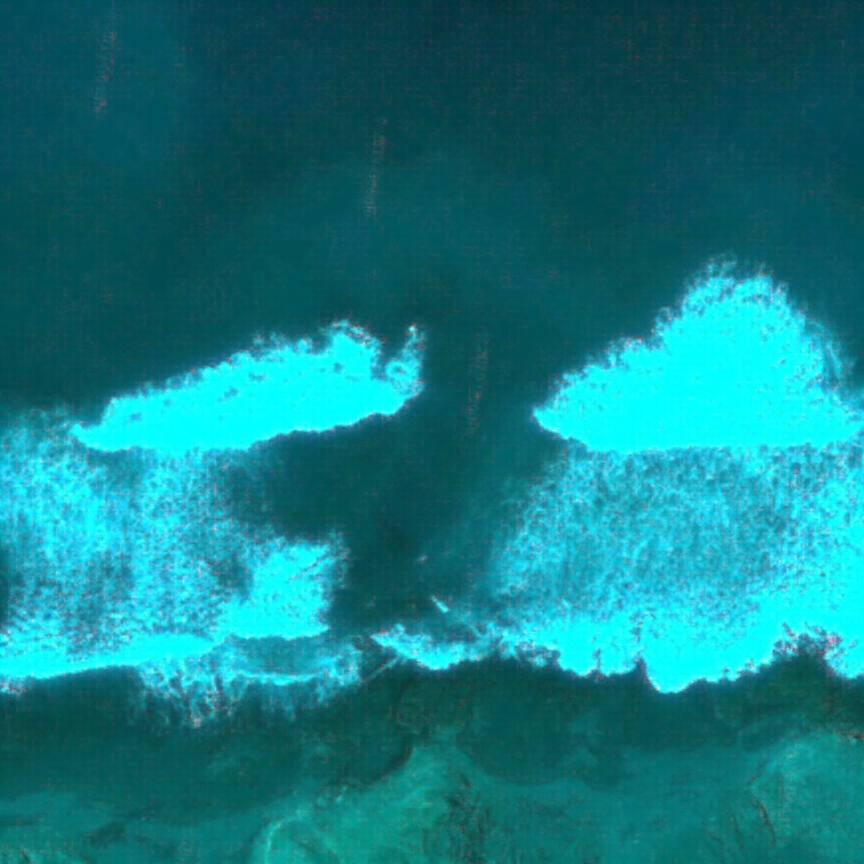rip_current: (199, 295, 578, 653)
